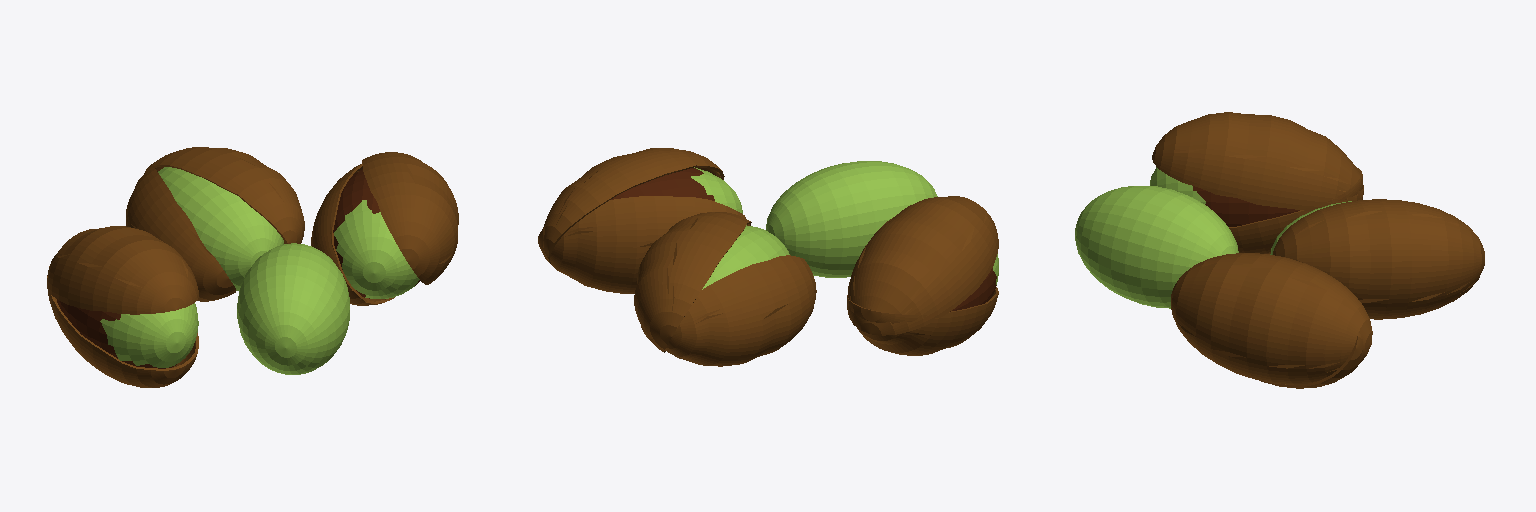
The model's file is Pistachio_256.obj.
3 views of the same model, side by side, from view 1: azimuth 30°, elevation 25°; view 2: azimuth 150°, elevation 25°; view 3: azimuth 270°, elevation 25° (orthographic).
Parts seen in each view (by area): view 1: Sphere017, Sphere002, Sphere014, Sphere006, Sphere016, Sphere005, Sphere003, Sphere007, Sphere004, Sphere015; view 2: Sphere002, Sphere017, Sphere007, Sphere015, Sphere005, Sphere014, Sphere004, Sphere016, Sphere006, Sphere003; view 3: Sphere014, Sphere005, Sphere002, Sphere017, Sphere003, Sphere004, Sphere015.
Part boxes in pixels (left/top/right/bottom): Sphere017: left=237, top=243, right=349, bottom=374; Sphere002: left=47, top=226, right=198, bottom=314; Sphere014: left=362, top=152, right=458, bottom=284; Sphere006: left=158, top=167, right=283, bottom=290; Sphere016: left=333, top=169, right=420, bottom=298; Sphere005: left=145, top=147, right=304, bottom=243; Sphere003: left=57, top=299, right=198, bottom=368; Sphere007: left=126, top=168, right=235, bottom=301; Sphere004: left=47, top=266, right=198, bottom=387; Sphere015: left=311, top=164, right=394, bottom=305; Sphere002: left=847, top=196, right=998, bottom=335; Sphere017: left=766, top=161, right=937, bottom=277; Sphere007: left=665, top=255, right=816, bottom=366; Sphere015: left=538, top=196, right=745, bottom=293; Sphere005: left=634, top=212, right=751, bottom=352; Sphere014: left=543, top=148, right=724, bottom=263; Sphere004: left=847, top=287, right=998, bottom=355; Sphere016: left=611, top=167, right=742, bottom=213; Sphere006: left=702, top=225, right=789, bottom=289; Sphere003: left=950, top=254, right=998, bottom=311; Sphere014: left=1171, top=253, right=1372, bottom=384; Sphere005: left=1273, top=199, right=1484, bottom=319; Sphere002: left=1152, top=112, right=1363, bottom=210; Sphere017: left=1075, top=186, right=1238, bottom=308; Sphere003: left=1150, top=167, right=1299, bottom=226; Sphere004: left=1229, top=167, right=1363, bottom=253; Sphere015: left=1261, top=261, right=1362, bottom=388.
Bounding box in the file's own units: 49.85 × 16.39 × 44.58.